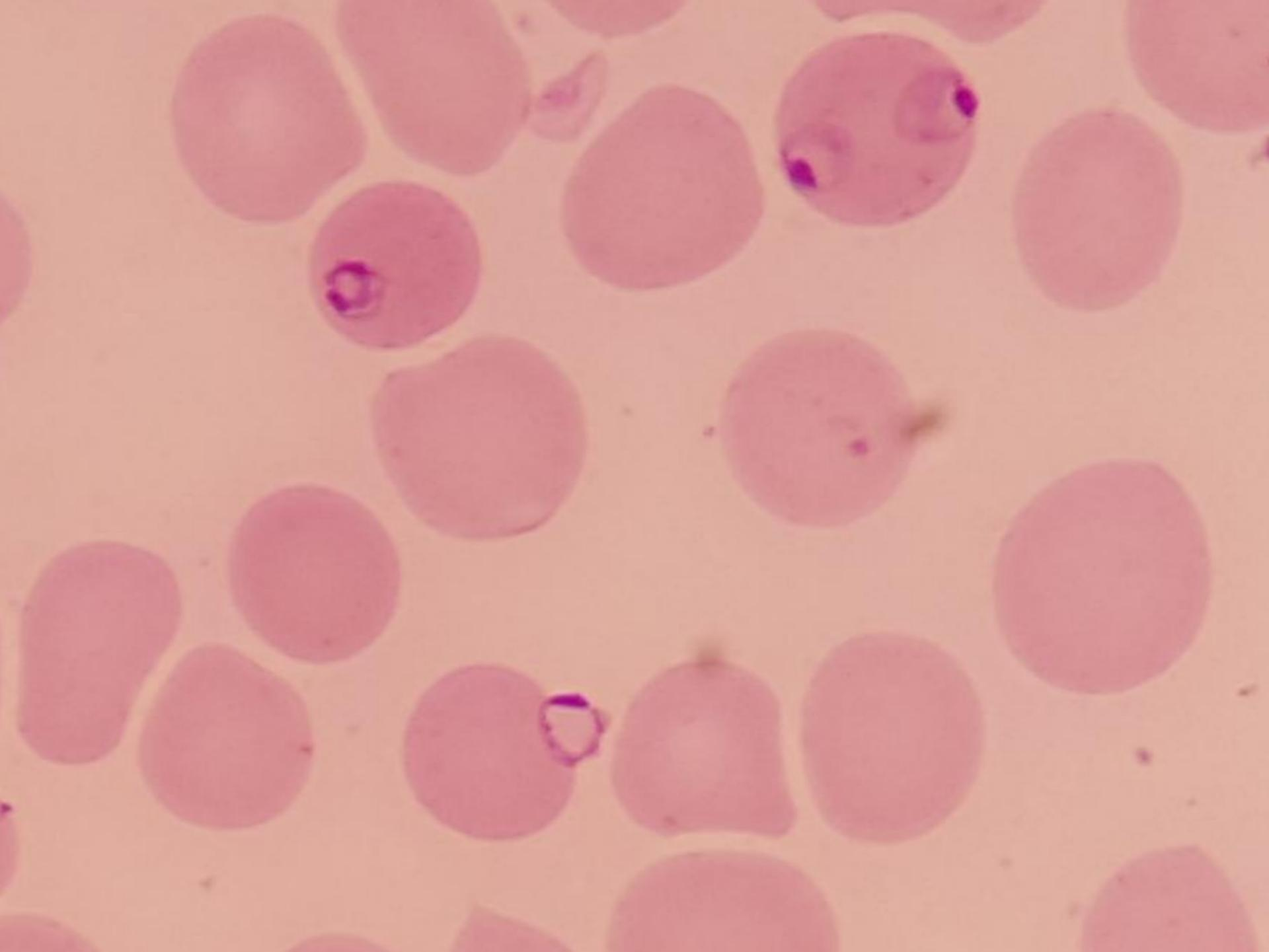Infected: (769, 32, 984, 240), (397, 650, 607, 845), (306, 175, 482, 357)
Uninfected: (996, 461, 1209, 699), (370, 335, 585, 544), (555, 87, 765, 294), (802, 631, 986, 840), (172, 16, 363, 217), (339, 0, 542, 184), (608, 653, 799, 845), (18, 545, 181, 767), (1018, 100, 1184, 317), (734, 324, 916, 519), (137, 637, 308, 833), (225, 483, 397, 663)
